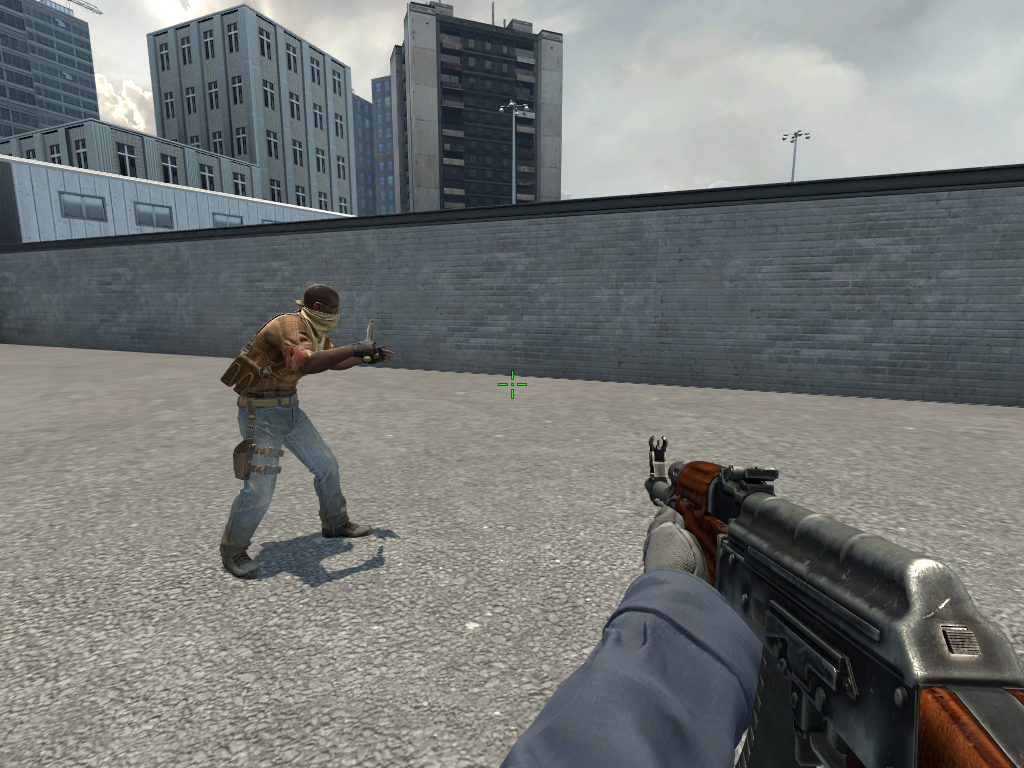tr head: (298, 281, 351, 335)
